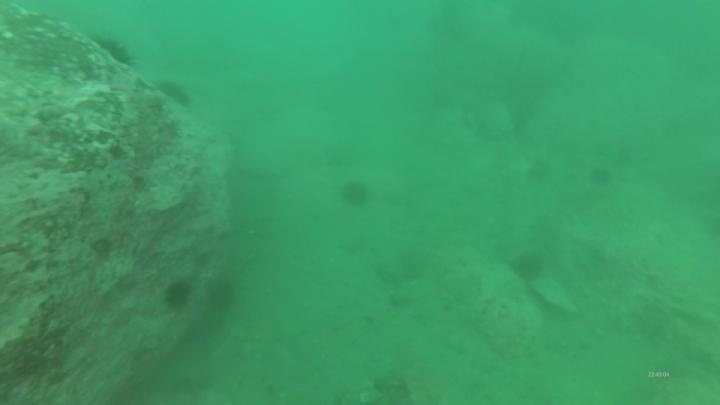echinus: (90, 30, 138, 71), (203, 274, 240, 314), (508, 249, 546, 284), (154, 77, 194, 110), (161, 277, 195, 313), (338, 178, 372, 209), (586, 164, 615, 189)
